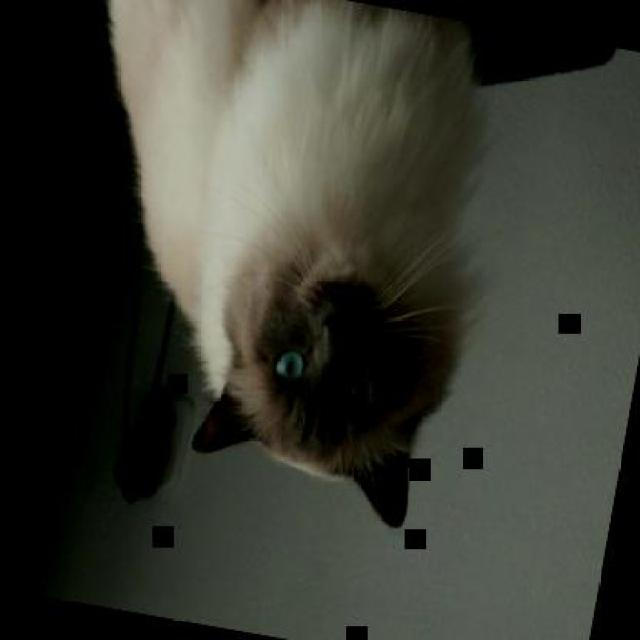cat: (26, 0, 517, 535)
